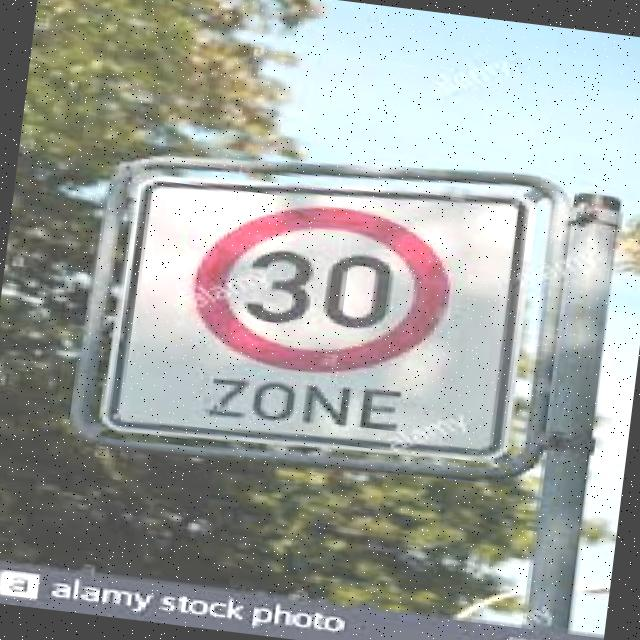Ograniczenie predkosci do 30: (175, 191, 461, 388)
